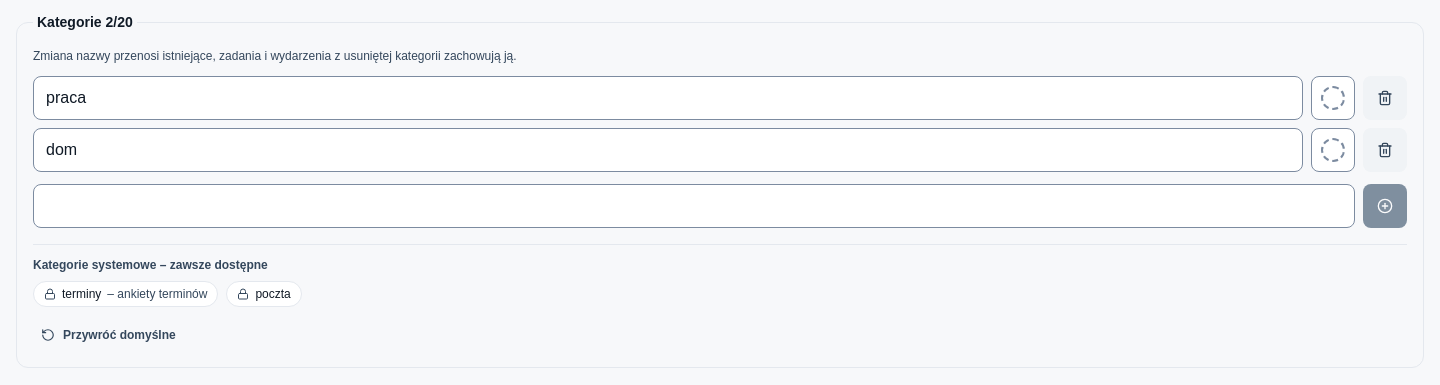
Test case: TaskCategoriesEditor › usuwa kategorię, ale ostatniej nie da się usunąć
Click the button named "Usuń kategorię dom". click: point(1385, 150)
box: [1363, 128, 1407, 172]
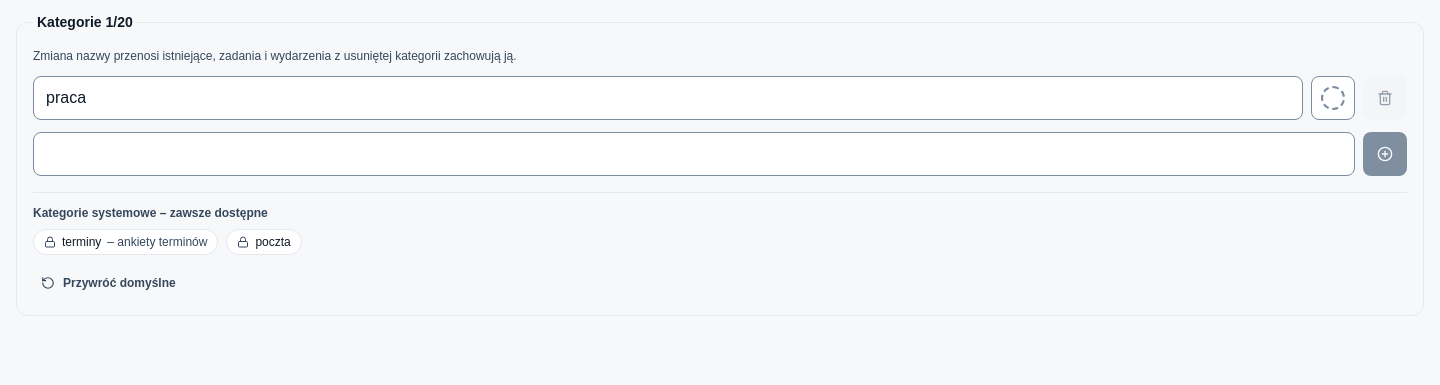
Now the button named "Usuń kategorię praca" is disabled, box [1363, 76, 1407, 120]
